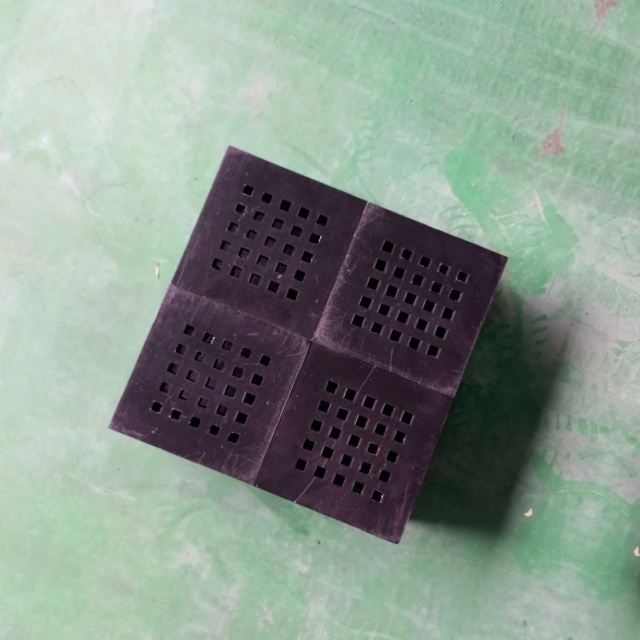pallet: (101, 136, 521, 556)
